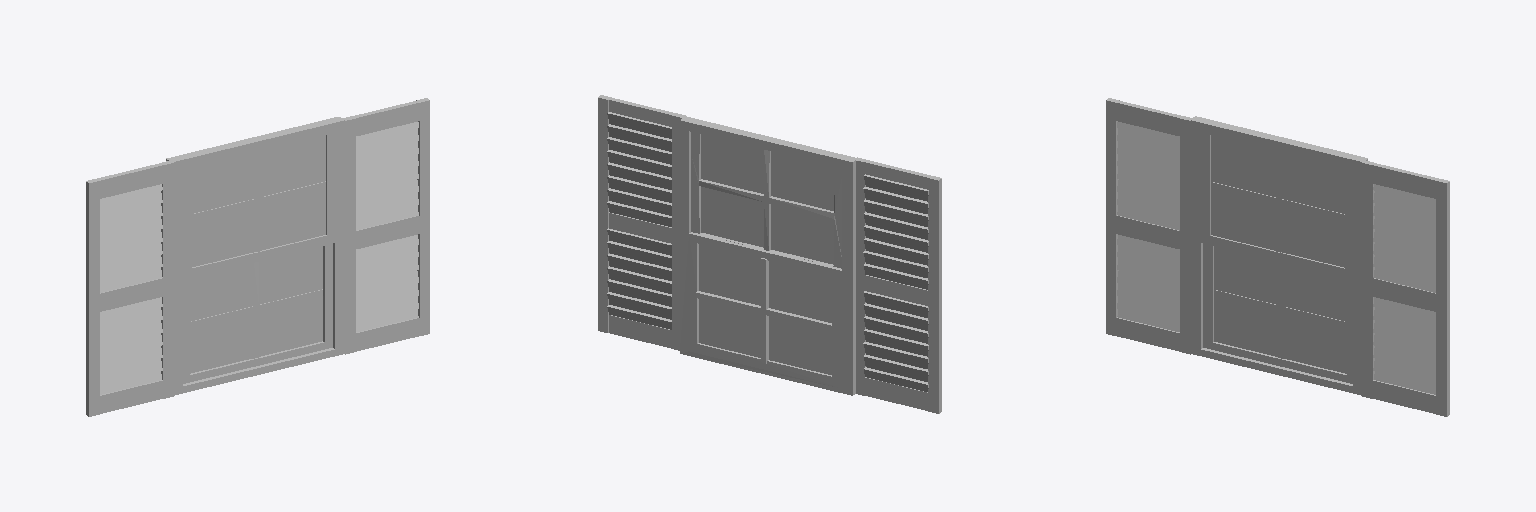
The model's file is window_with_shutters.obj.
3 views of the same model, side by side, from view 1: azimuth 30°, elevation 25°; view 2: azimuth 150°, elevation 25°; view 3: azimuth 330°, elevation 25° (orthographic).
Visible parts, largest first — view 1: Glass_Cube.001, ShutterPanes_Plane.005, ShutterEdge_Plane.021, WindowFrame_Plane.024; view 2: ShutterPanes_Plane.005, Glass_Cube.001, WindowFrame_Plane.024, ShutterEdge_Plane.021; view 3: Glass_Cube.001, ShutterPanes_Plane.005, ShutterEdge_Plane.021, WindowFrame_Plane.024.
Boxes of the visible parts, box(x1,y1,x2,y2) form: Glass_Cube.001: box(190, 135, 325, 373); ShutterPanes_Plane.005: box(100, 122, 418, 394); ShutterEdge_Plane.021: box(86, 98, 429, 416); WindowFrame_Plane.024: box(166, 117, 344, 395); ShutterPanes_Plane.005: box(607, 112, 928, 391); Glass_Cube.001: box(699, 134, 833, 374); WindowFrame_Plane.024: box(680, 116, 855, 395); ShutterEdge_Plane.021: box(598, 95, 941, 413); Glass_Cube.001: box(1211, 135, 1346, 373); ShutterPanes_Plane.005: box(1117, 122, 1435, 394); ShutterEdge_Plane.021: box(1106, 98, 1449, 416); WindowFrame_Plane.024: box(1191, 116, 1367, 395).
Size of the model in its own units: 76.72 by 50.2 by 2.91.